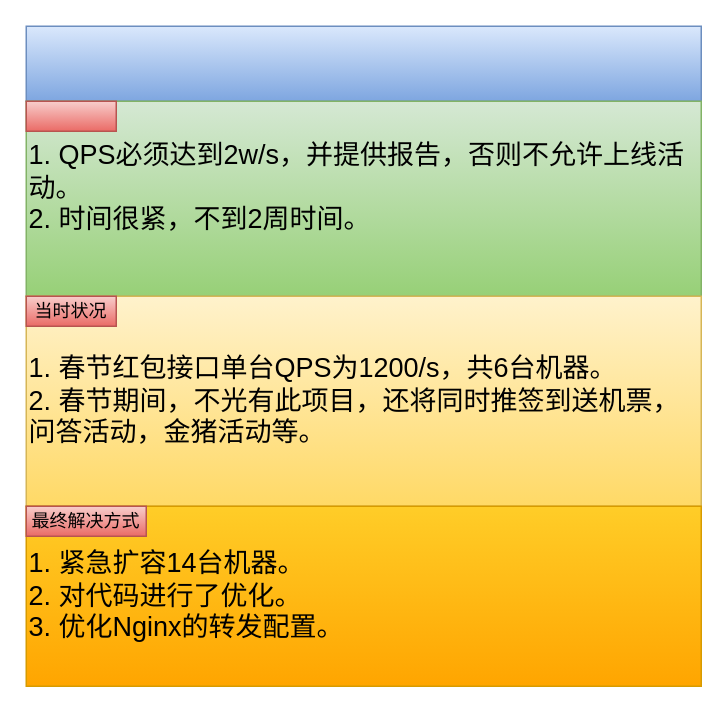
This 728x713 diagram has some shape labels left out. Here are the shapes that lost their labels. From the top down, the centre of each, then its label:
the point at 363,63: QQ春节红包活动
the point at 70,115: 项目挑战
